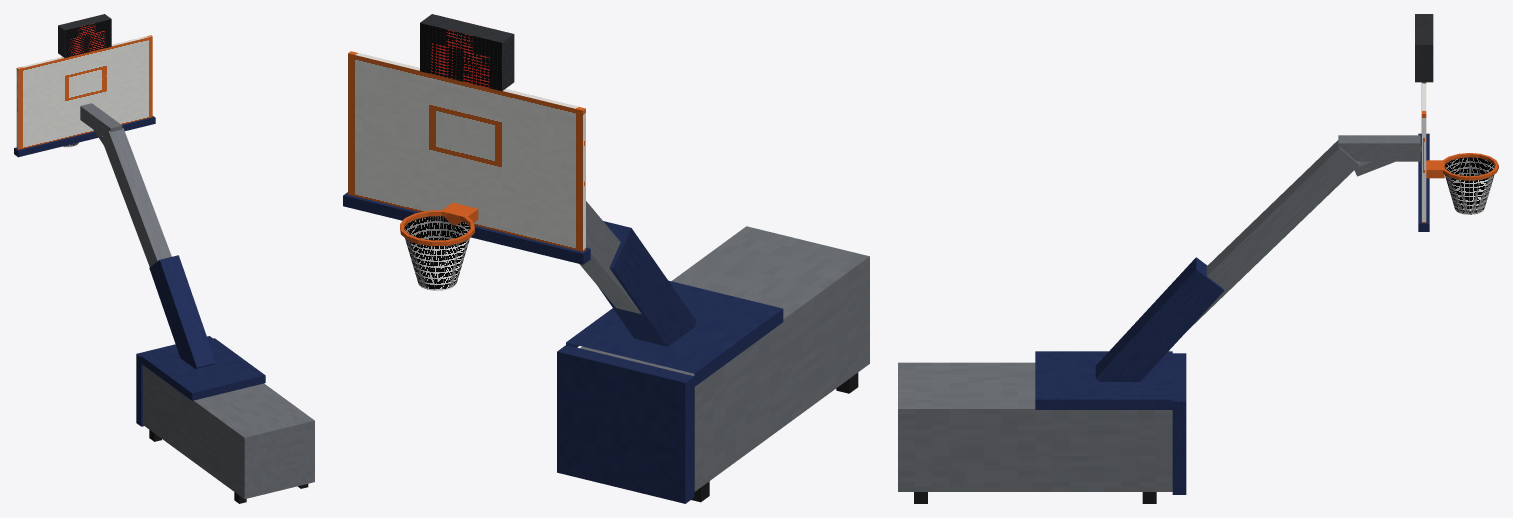
The model's file is basketball_stanchion.obj.
The picture shows the model from 3 angles, left to right: view 1: azimuth 30°, elevation 25°; view 2: azimuth 150°, elevation 25°; view 3: azimuth 270°, elevation 25°; orthographic projection. The views are drawn at different scales.
Visible parts, largest first — view 1: basketball_stanchion; view 2: basketball_stanchion; view 3: basketball_stanchion.
Boxes of the visible parts, box(x1,y1,x2,y2) form: basketball_stanchion: box(14, 14, 314, 503); basketball_stanchion: box(343, 14, 869, 503); basketball_stanchion: box(898, 14, 1498, 503).
Size of the model in its own units: 1.87 by 4.36 by 5.25.
